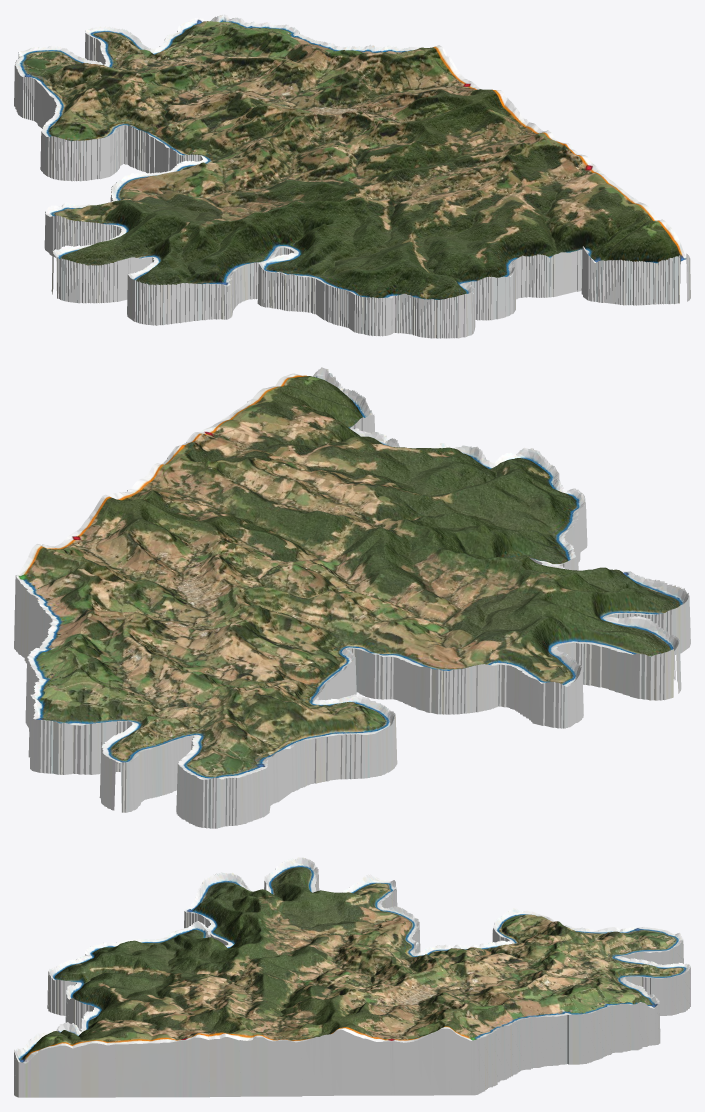
3 views of the same model, one above another, from view 1: azimuth 30°, elevation 25°; view 2: azimuth 150°, elevation 25°; view 3: azimuth 270°, elevation 25° (orthographic). The views are drawn at different scales.
Size of the model in its own units: 1 by 0.1521 by 1.4.
Materials: 1 (1 with a texture image).
